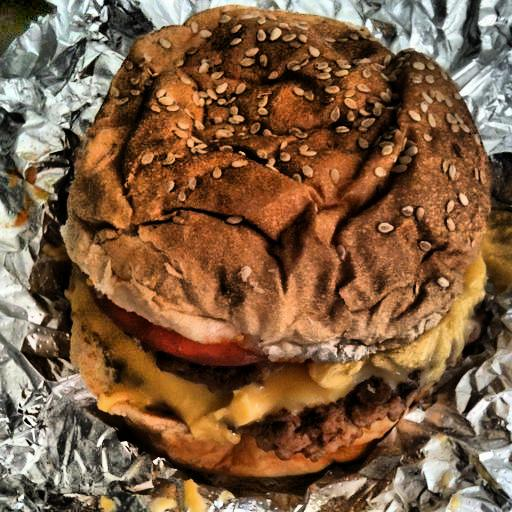burger: (65, 10, 475, 479)
